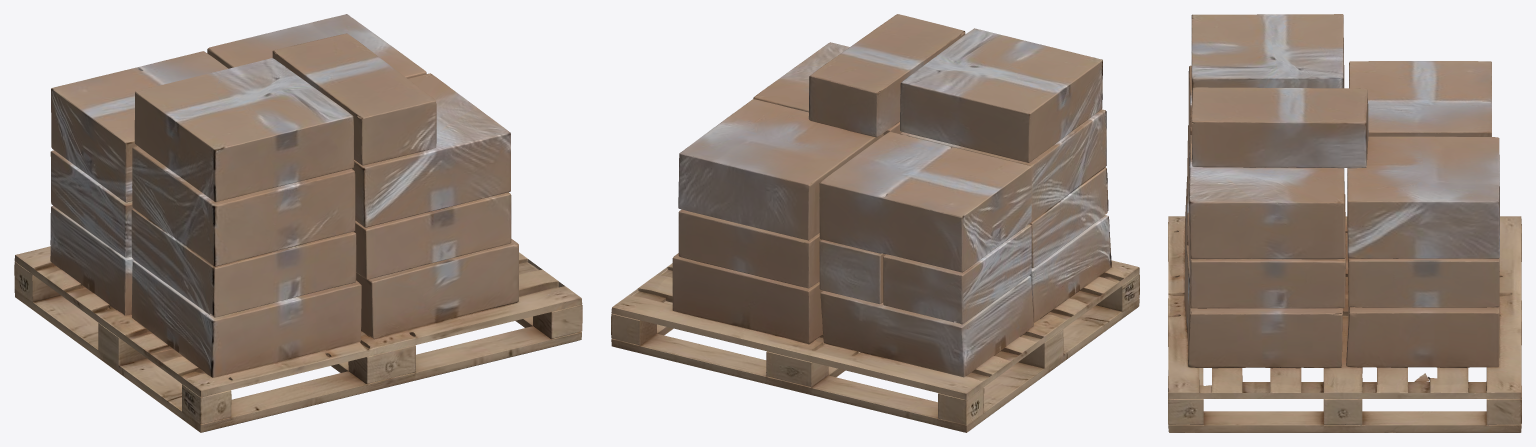
File: palete.glb
The picture shows the model from 3 angles, left to right: view 1: azimuth 30°, elevation 25°; view 2: azimuth 150°, elevation 25°; view 3: azimuth 270°, elevation 25°; orthographic projection. The views are drawn at different scales.
Parts seen in each view (by area): view 1: model; view 2: model; view 3: model.
Boxes of the visible parts, left/top/right/bottom form: model: left=14, top=14, right=582, bottom=432; model: left=611, top=14, right=1139, bottom=432; model: left=1168, top=14, right=1521, bottom=432.
Bounding box in the file's own units: 1.85 × 1.24 × 1.56.
1 material, 1 textured.
